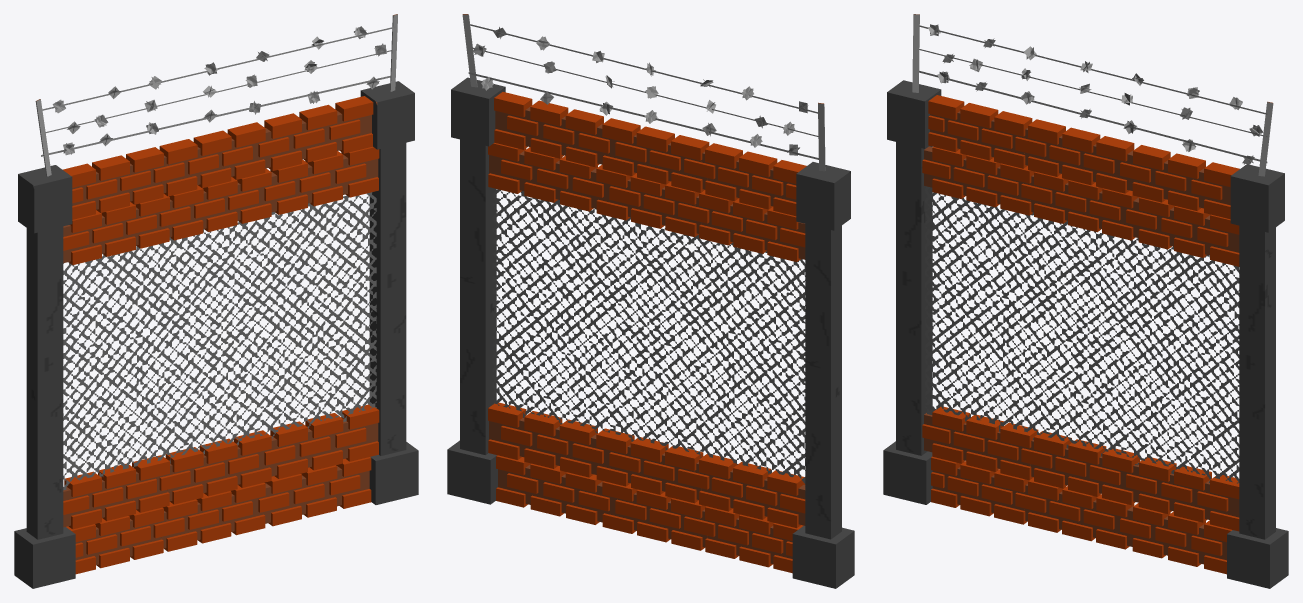
Rendered from Wall_Fence.fbx.
3 renders of one model, left to right at view 1: azimuth 30°, elevation 25°; view 2: azimuth 150°, elevation 25°; view 3: azimuth 330°, elevation 25°, orthographic.
Parts seen in each view (by area): view 1: Wall_Piece21, Wall_Piece6, Wall_Piece18, Wall_Piece, Wall_Piece8, Wall_Piece2, Wall_Piece14, Wall_Piece9, Wall_Piece4, Wall_Piece7, Wall_Piece20, Wall_Piece15 (+6 smaller); view 2: Wall_Piece21, Wall_Piece6, Wall_Piece18, Wall_Piece, Wall_Piece8, Wall_Piece9, Wall_Piece2, Wall_Piece14, Wall_Piece4, Wall_Piece7, Wall_Piece20, Wall_Piece15 (+6 smaller); view 3: Wall_Piece21, Wall_Piece18, Wall_Piece6, Wall_Piece, Wall_Piece8, Wall_Piece9, Wall_Piece2, Wall_Piece14, Wall_Piece20, Wall_Piece4, Wall_Piece7, Wall_Piece15 (+8 smaller).
Boxes of the visible parts, x1,y1,x2,y2 form: Wall_Piece21: (63, 192, 376, 490); Wall_Piece6: (14, 165, 75, 588); Wall_Piece18: (360, 81, 418, 504); Wall_Piece: (153, 122, 289, 196); Wall_Piece8: (159, 430, 295, 504); Wall_Piece2: (153, 483, 289, 551); Wall_Piece14: (159, 168, 295, 240); Wall_Piece9: (63, 455, 173, 529); Wall_Piece4: (264, 96, 377, 170); Wall_Piece7: (270, 404, 379, 478); Wall_Piece20: (63, 147, 167, 219); Wall_Piece15: (63, 194, 173, 265); Wall_Piece21: (492, 189, 805, 483); Wall_Piece6: (792, 162, 854, 588); Wall_Piece18: (447, 77, 505, 504); Wall_Piece: (578, 118, 715, 192); Wall_Piece8: (572, 428, 709, 503); Wall_Piece9: (695, 453, 805, 528); Wall_Piece2: (578, 481, 715, 550); Wall_Piece14: (572, 164, 709, 237); Wall_Piece4: (494, 92, 603, 167); Wall_Piece7: (488, 402, 597, 477); Wall_Piece20: (701, 143, 806, 216); Wall_Piece15: (695, 190, 805, 261); Wall_Piece21: (925, 186, 1239, 483); Wall_Piece18: (1227, 164, 1288, 588); Wall_Piece6: (883, 80, 941, 504); Wall_Piece: (1015, 119, 1150, 193); Wall_Piece8: (1021, 431, 1156, 505); Wall_Piece9: (922, 406, 1038, 480); Wall_Piece2: (1015, 477, 1150, 549); Wall_Piece14: (1021, 171, 1156, 240); Wall_Piece20: (928, 95, 1032, 168); Wall_Piece4: (1127, 145, 1239, 219); Wall_Piece7: (1133, 457, 1239, 531); Wall_Piece15: (922, 146, 1036, 215).
Bounding box in the file's own units: 3.82 × 4.5 × 0.3201.
